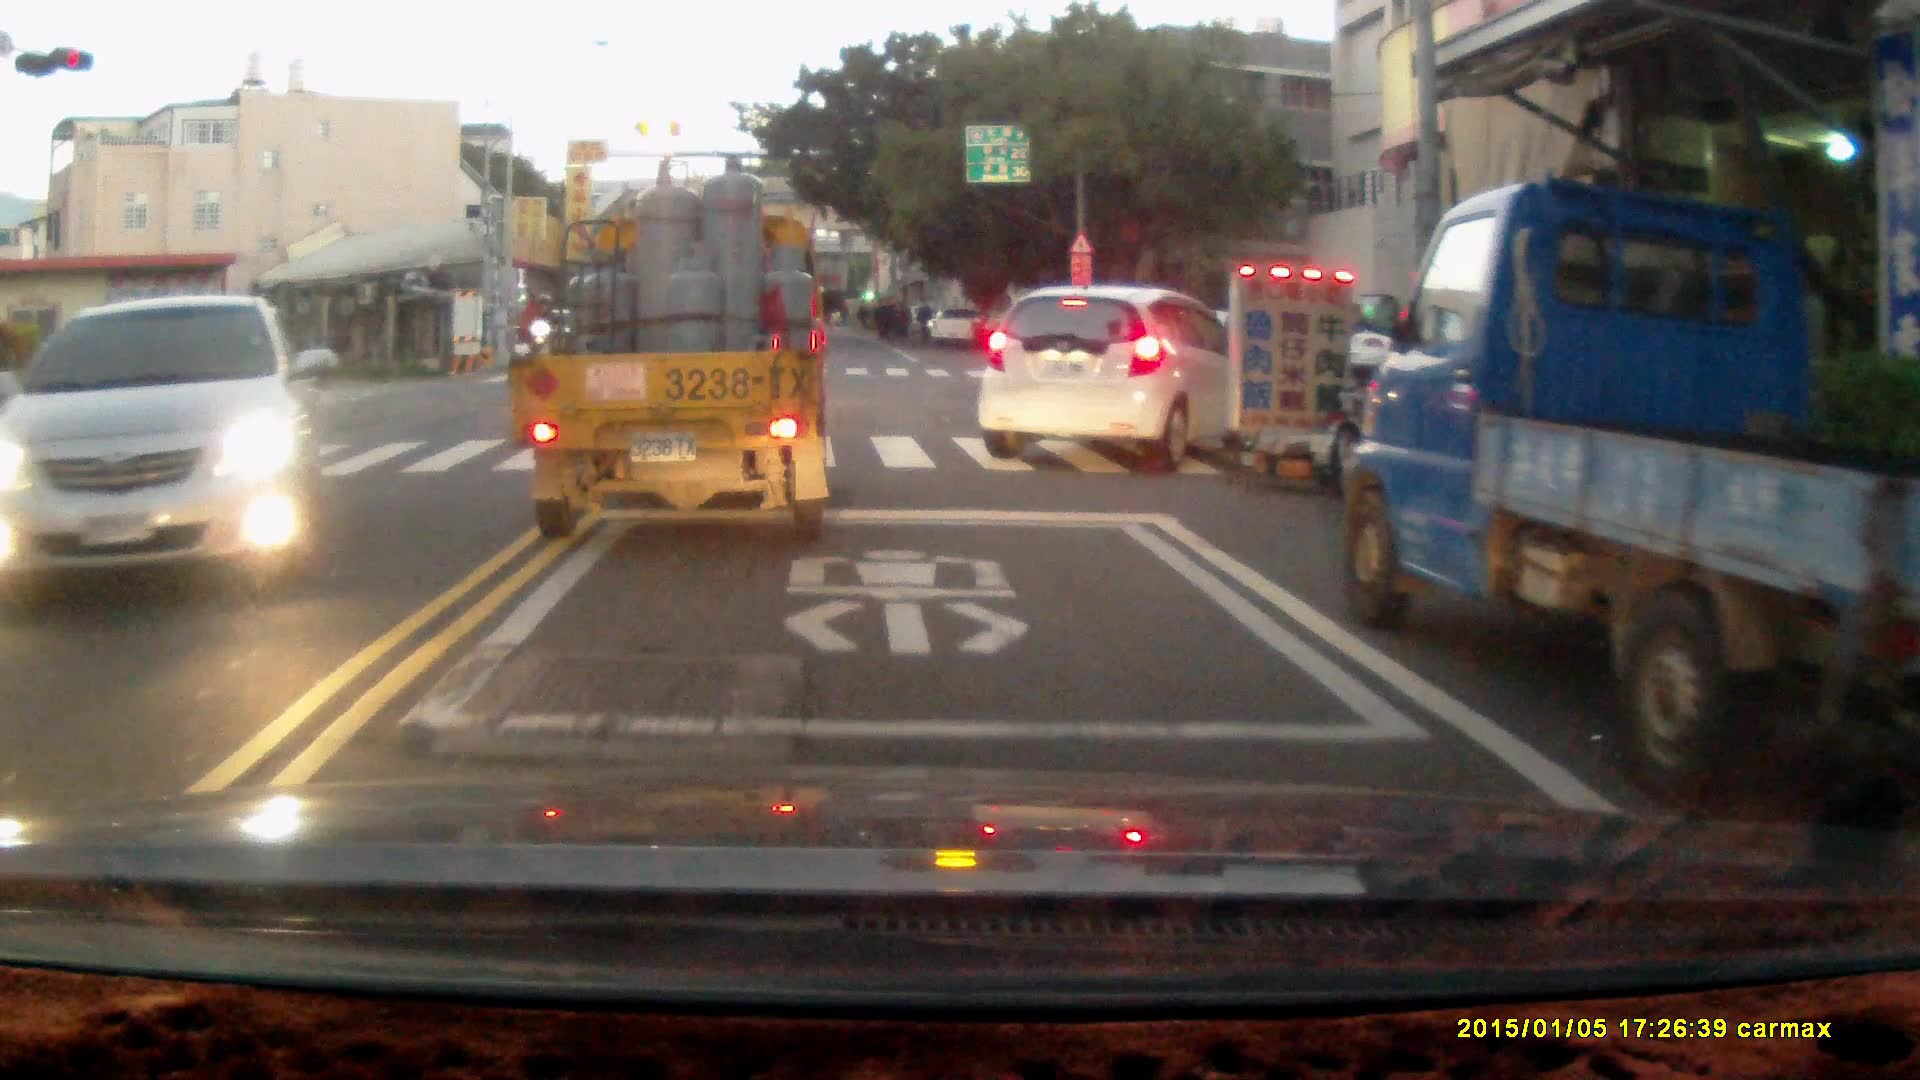vehicle: (1335, 185, 1920, 800), (502, 157, 833, 545), (1, 291, 332, 592), (977, 286, 1244, 469)
